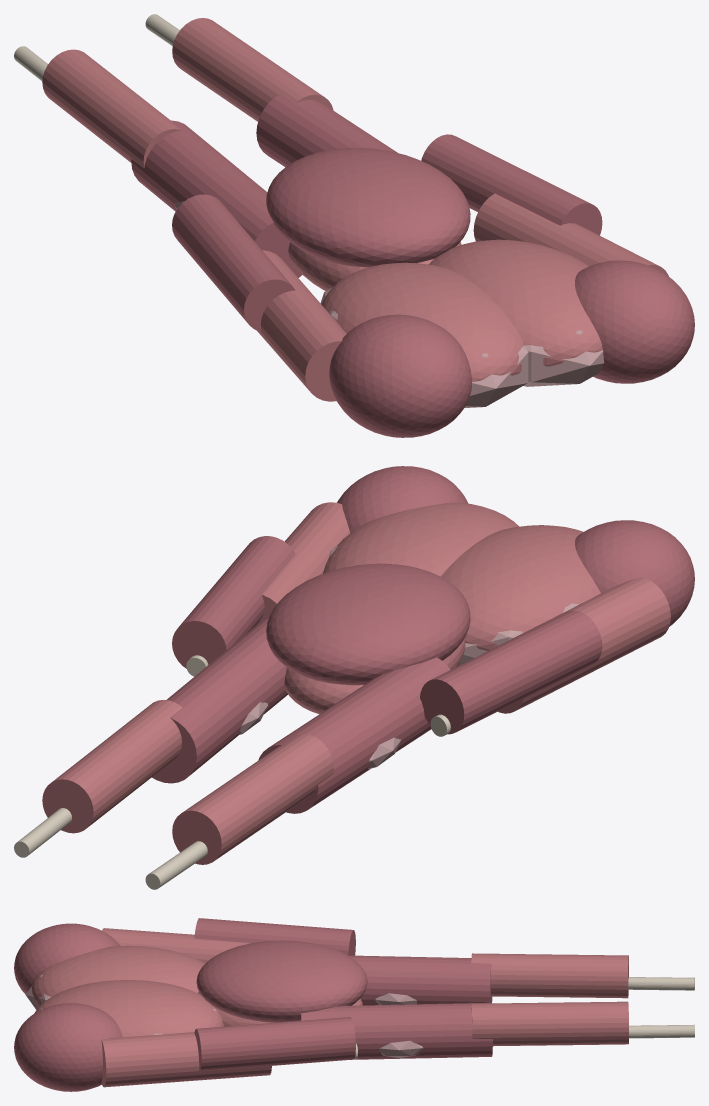
File: muscular-g3-high.glb
The picture shows the model from 3 angles, top to bottom: view 1: azimuth 30°, elevation 25°; view 2: azimuth 150°, elevation 25°; view 3: azimuth 270°, elevation 25°; orthographic projection. The views are drawn at different scales.
Visible parts, largest first — view 1: back_muscle_proxy, left_deltoid, left_pectoralis, right_pectoralis, right_deltoid, left_quadriceps, left_triceps_proxy, left_calf, right_calf, right_triceps_proxy, left_biceps, right_quadriceps (+4 smaller); view 2: back_muscle_proxy, left_pectoralis, left_triceps_proxy, left_calf, right_quadriceps, left_quadriceps, right_calf, right_pectoralis, right_triceps_proxy, left_deltoid, left_biceps, right_deltoid (+5 smaller); view 3: back_muscle_proxy, right_deltoid, right_quadriceps, right_triceps_proxy, right_calf, right_pectoralis, left_calf, left_quadriceps, left_pectoralis, right_biceps, left_deltoid, left_triceps_proxy (+6 smaller).
Part boxes in pixels (box(x1,y1,x2,y2)): back_muscle_proxy: box(266, 147, 470, 267); left_deltoid: box(329, 314, 471, 437); left_pectoralis: box(322, 262, 524, 381); right_pectoralis: box(429, 239, 602, 366); right_deltoid: box(575, 260, 694, 383); left_quadriceps: box(131, 120, 302, 277); left_triceps_proxy: box(172, 194, 295, 331); left_calf: box(42, 49, 182, 167); right_calf: box(172, 18, 333, 121); right_triceps_proxy: box(421, 134, 602, 235); left_biceps: box(257, 250, 346, 401); right_quadriceps: box(256, 93, 397, 167); back_muscle_proxy: box(266, 563, 470, 685); left_pectoralis: box(441, 525, 600, 650); left_triceps_proxy: box(420, 610, 602, 734); left_calf: box(172, 734, 333, 864); right_quadriceps: box(152, 618, 287, 783); left_quadriceps: box(258, 657, 450, 813); right_calf: box(42, 700, 182, 833); right_pectoralis: box(323, 502, 518, 576); right_triceps_proxy: box(172, 536, 295, 668); left_deltoid: box(575, 520, 694, 626); left_biceps: box(483, 577, 670, 713); right_deltoid: box(337, 466, 468, 533); back_muscle_proxy: box(196, 940, 367, 1022); right_deltoid: box(14, 1003, 122, 1091); right_quadriceps: box(300, 1002, 492, 1059); right_triceps_proxy: box(194, 1017, 355, 1071); right_calf: box(471, 1001, 628, 1046); right_pectoralis: box(34, 980, 223, 1037); left_calf: box(471, 953, 628, 998); left_quadriceps: box(348, 955, 492, 1005); left_pectoralis: box(32, 945, 204, 1005); right_biceps: box(101, 1032, 271, 1087); left_deltoid: box(14, 923, 120, 994); left_triceps_proxy: box(194, 918, 355, 955).
Size of the model in its own units: 2.17 by 0.73 by 4.78.
